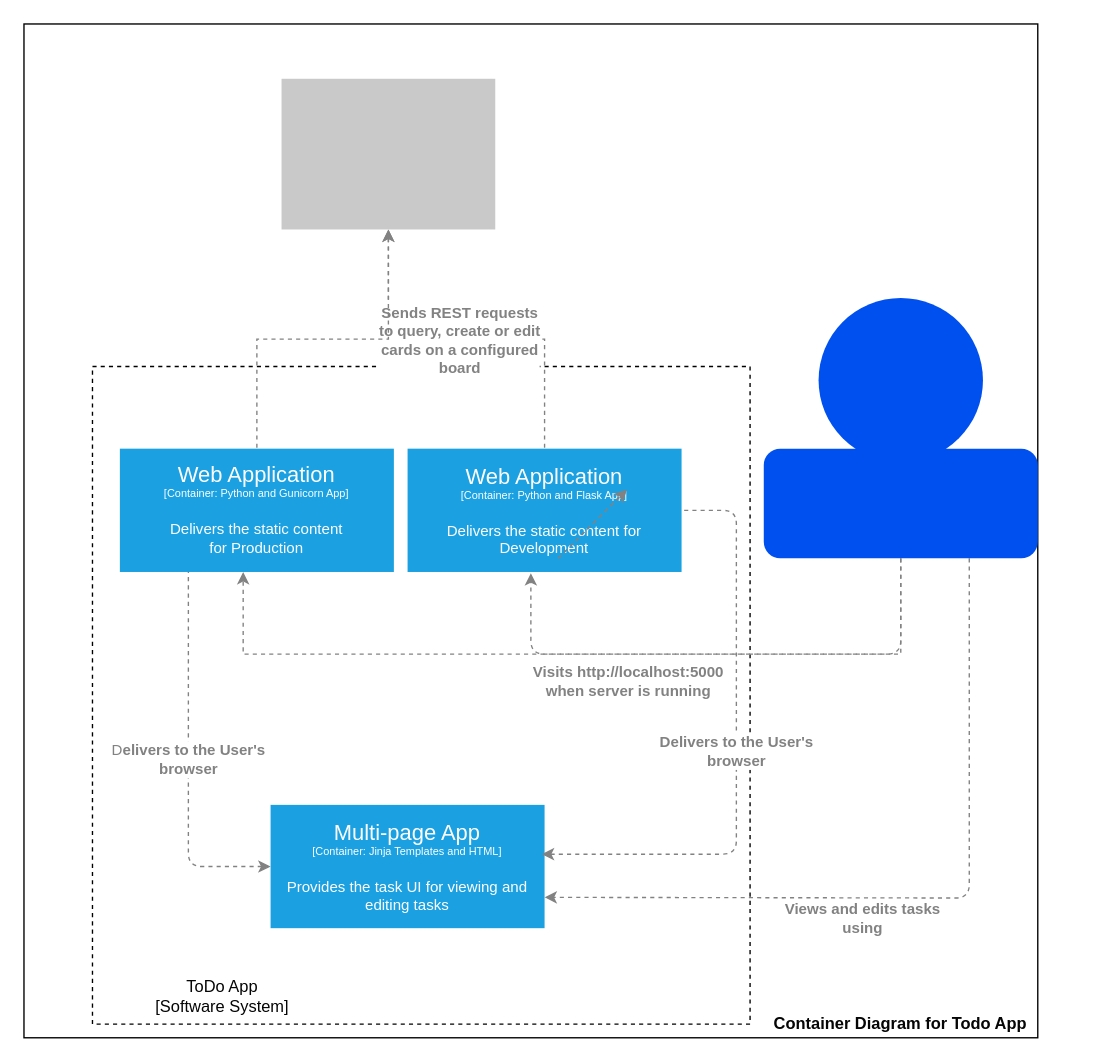
Image size: 1096x1062. Some labels were removed from this diagram. The box of each missing label's shape, as (x1, y1, x2, y2) in pixels:
Trello Web application for storing cards: (281, 78, 495, 229)
User [Person] Any user that wants to use the ToDo App: (763, 448, 1037, 558)
